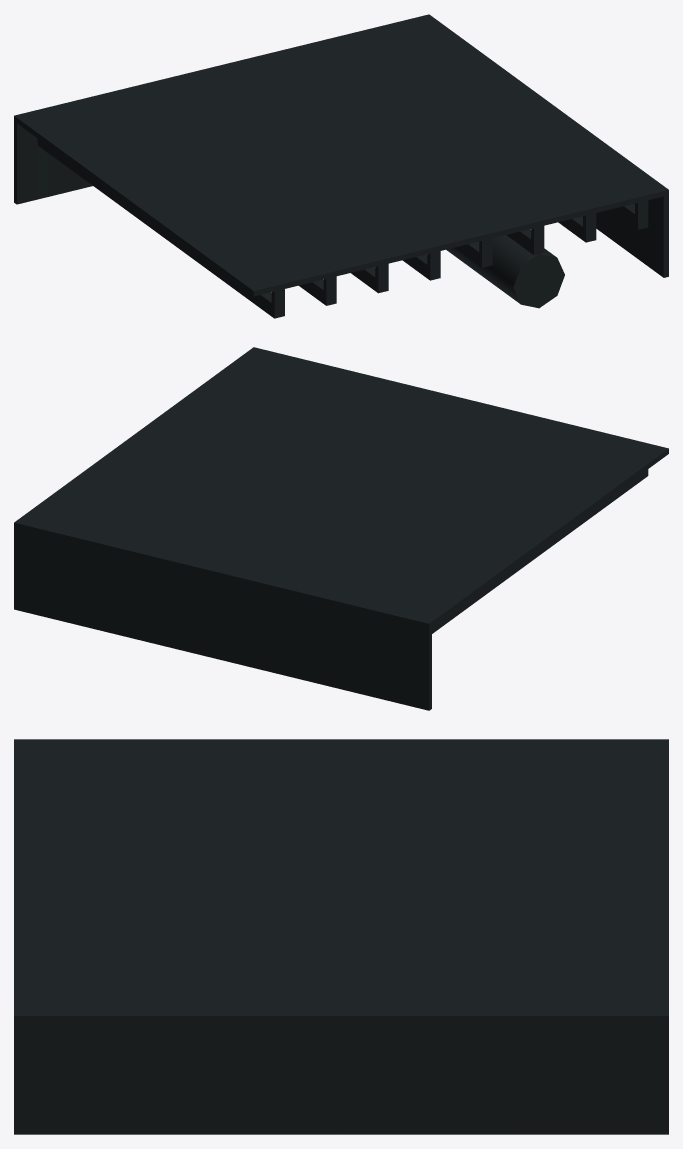
File: Roof_Corner.glb
3 renders of one model, top to bottom at view 1: azimuth 30°, elevation 25°; view 2: azimuth 150°, elevation 25°; view 3: azimuth 270°, elevation 25°, orthographic. The views are drawn at different scales.
Parts seen in each view (by area): view 1: Roof_Corner; view 2: Roof_Corner; view 3: Roof_Corner.
Part boxes in pixels (<box>): Roof_Corner: <box>14,14,668,318</box>; Roof_Corner: <box>14,347,668,710</box>; Roof_Corner: <box>14,739,668,1134</box>.
Size of the model in its own units: 8 by 2.21 by 8.
Materials: 1 (1 with a texture image).
